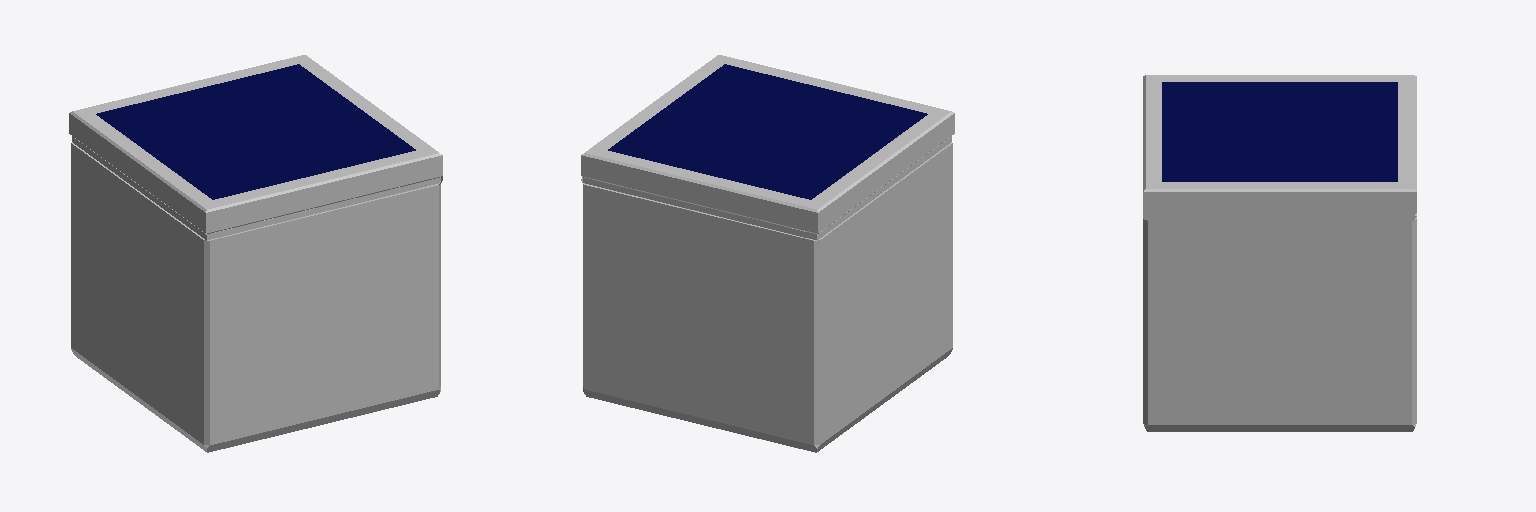
Rendered from Freezer.obj.
3 renders of one model, left to right at view 1: azimuth 30°, elevation 25°; view 2: azimuth 150°, elevation 25°; view 3: azimuth 270°, elevation 25°, orthographic.
Parts seen in each view (by area): view 1: Freezer_Freezer, Freezer_Freezer_glass; view 2: Freezer_Freezer, Freezer_Freezer_glass; view 3: Freezer_Freezer, Freezer_Freezer_glass.
Boxes of the visible parts, box(x1,y1,x2,y2) form: Freezer_Freezer: box(69, 55, 442, 452); Freezer_Freezer_glass: box(96, 64, 415, 199); Freezer_Freezer: box(581, 55, 954, 452); Freezer_Freezer_glass: box(608, 64, 927, 199); Freezer_Freezer: box(1143, 75, 1416, 431); Freezer_Freezer_glass: box(1162, 82, 1397, 181).
Size of the model in its own units: 1 by 1 by 1.